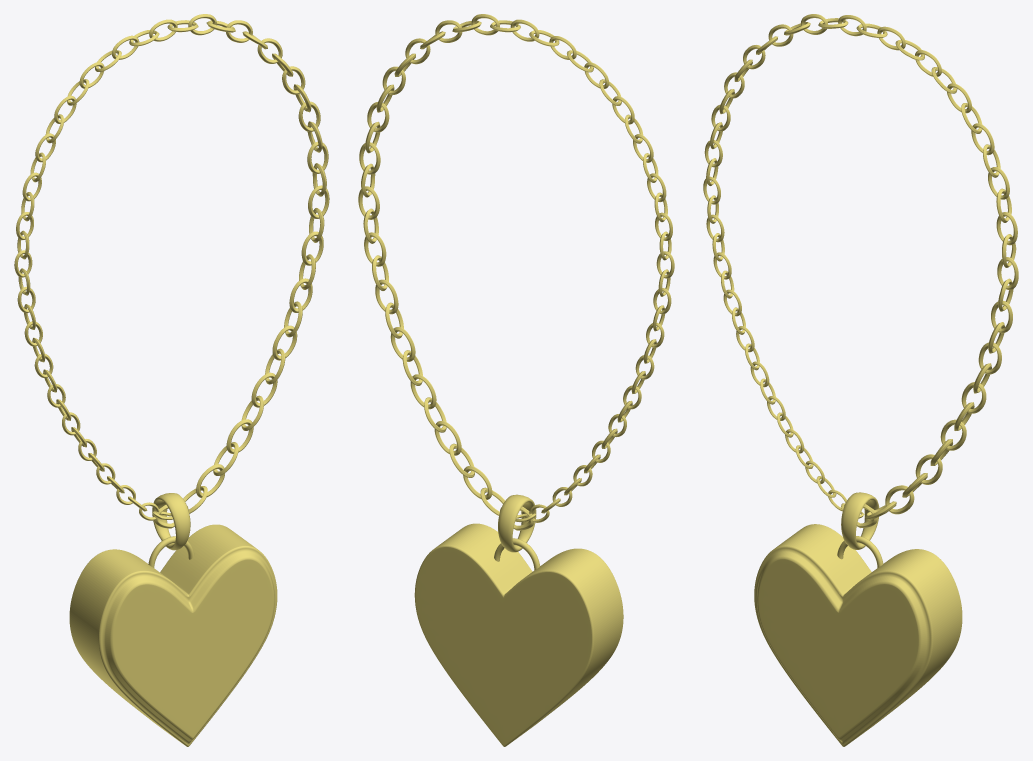
The model's file is necklace.glb.
The picture shows the model from 3 angles, left to right: view 1: azimuth 30°, elevation 25°; view 2: azimuth 150°, elevation 25°; view 3: azimuth 330°, elevation 25°; orthographic projection.
Visible parts, largest first — view 1: Circle_1; view 2: Circle_1; view 3: Circle_1.
Part boxes in pixels (x1,y1,x2,y2): Circle_1: [14, 14, 329, 746]; Circle_1: [358, 14, 674, 746]; Circle_1: [703, 14, 1018, 746].
Bounding box in the file's own units: 3.89 × 8.45 × 0.7533.
